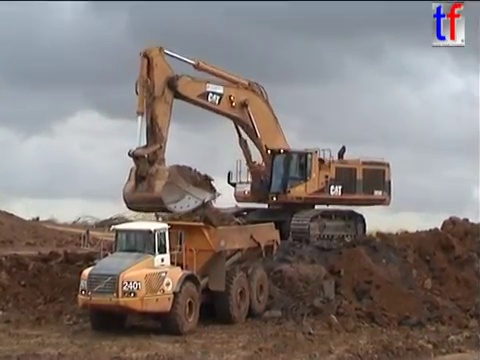excavator: (119, 43, 395, 252)
truck: (75, 217, 282, 335), (153, 194, 245, 235)
